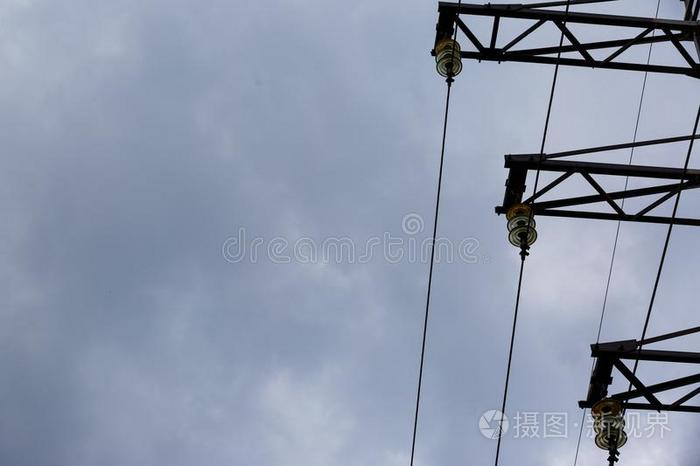insulator: (588, 400, 628, 449), (503, 204, 538, 250), (431, 37, 465, 80)
